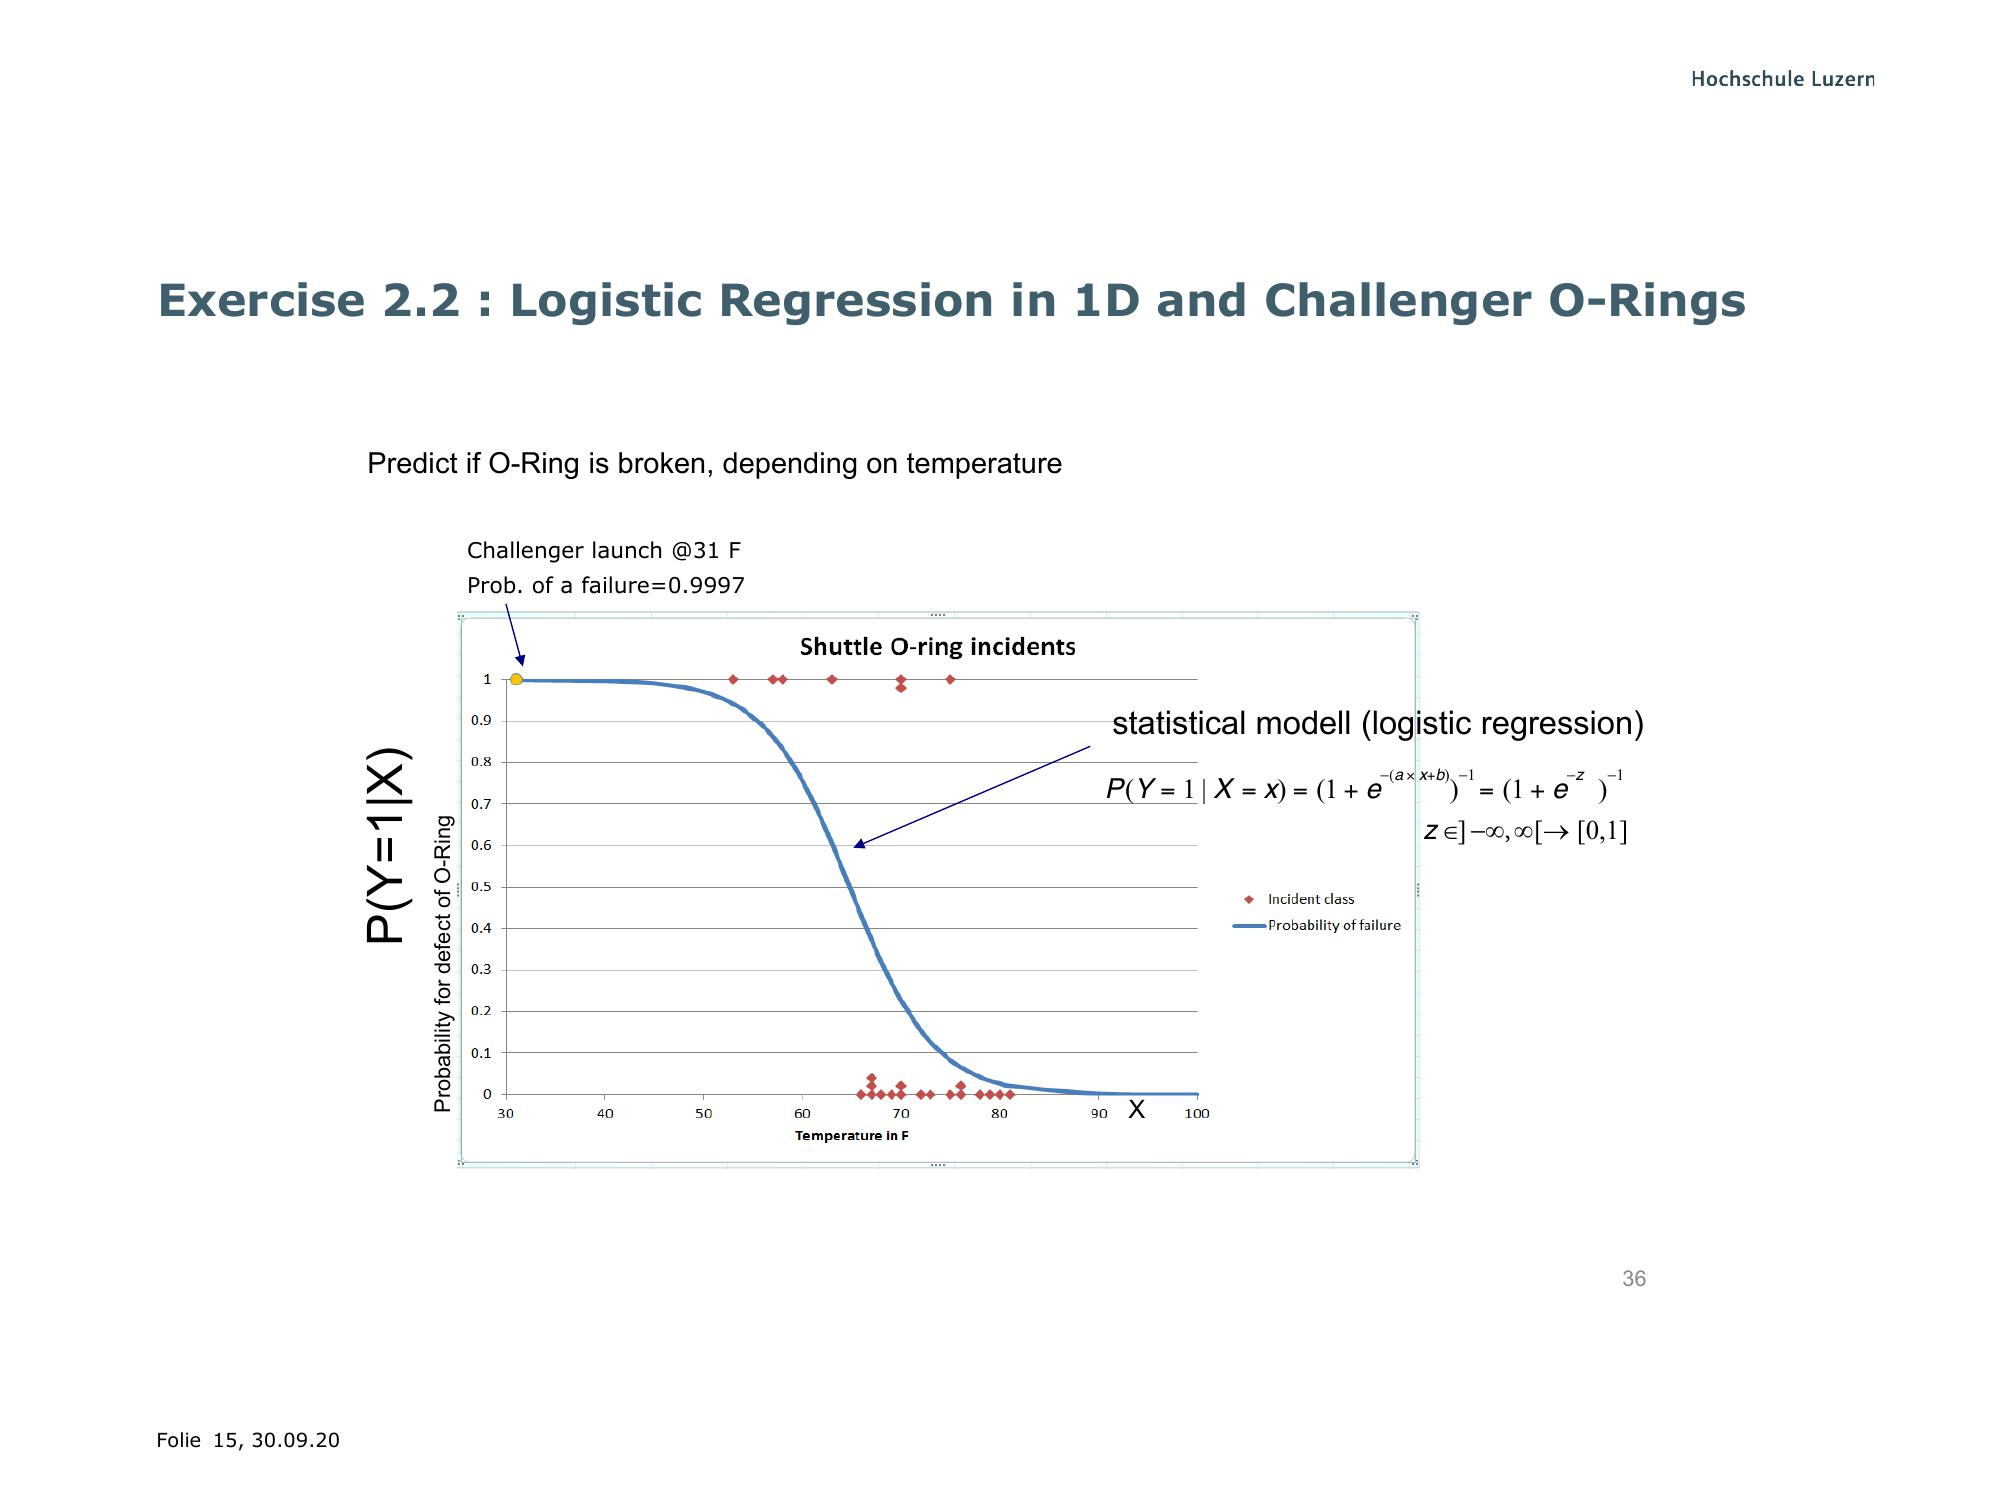Title: (153, 257, 1754, 347)
